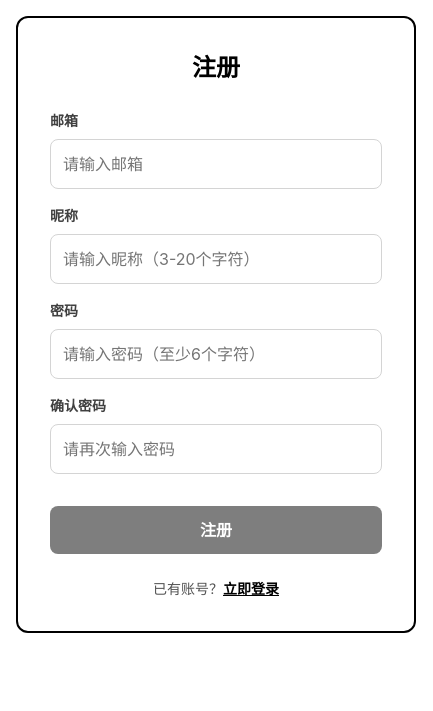
Scenario: RegisterView › 密码验证 › 密码不一致时应该显示错误
The image size is (433, 711).
Step 1. Type "password123" into the password field labelled "密码" → (216, 354), box left=50, top=329, right=382, bottom=379
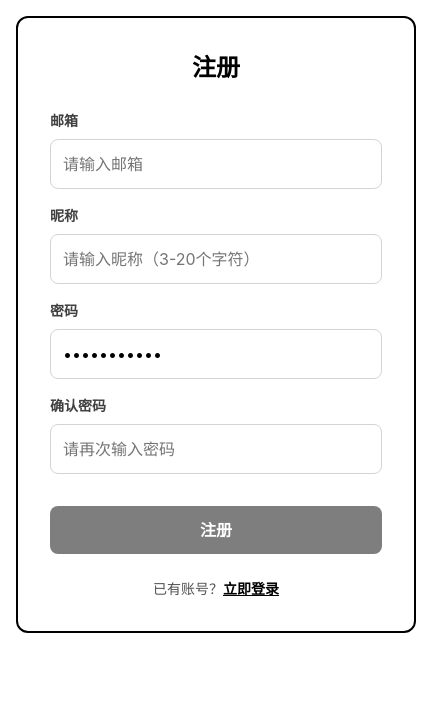
Step 2. Type "password456" into the password field with id "confirmPassword" → (216, 449), box left=50, top=424, right=382, bottom=474
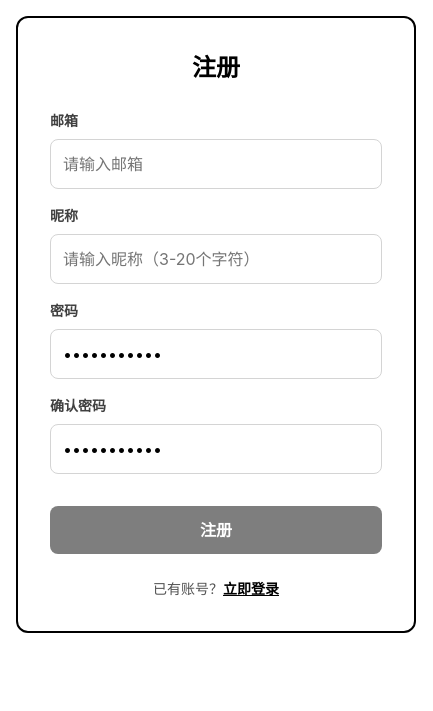
Step 3. Submit the form with class "register-form", box left=50, top=110, right=382, bottom=554
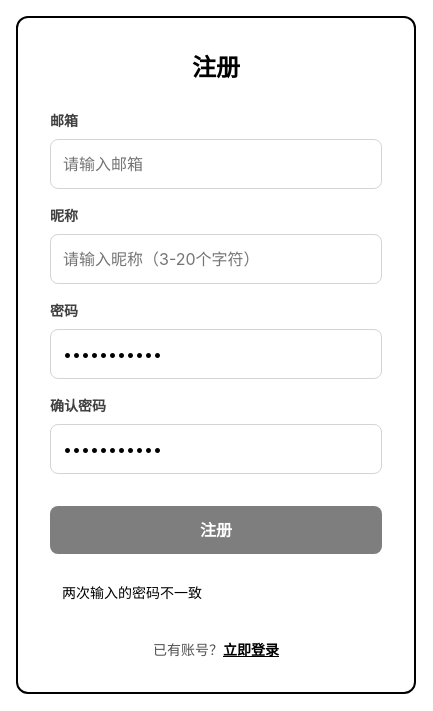
Expected: the text with class "error-message" reads "两次输入的密码不一致", left=62, top=584, right=202, bottom=601
